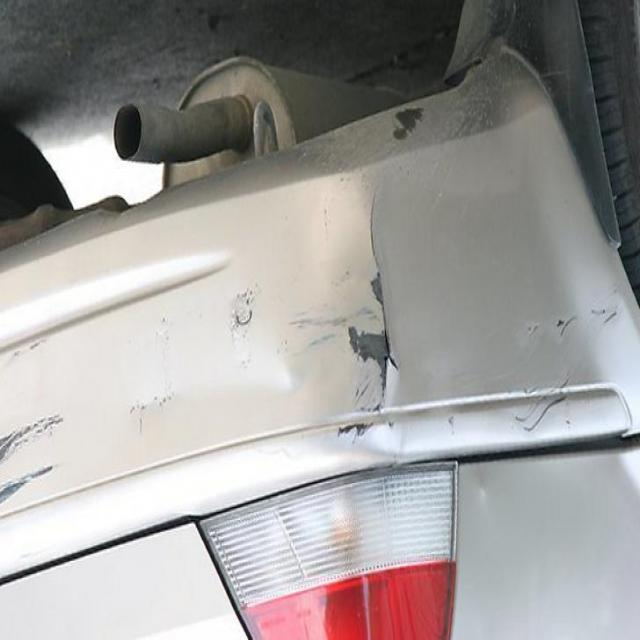scratch: (328, 169, 394, 445), (0, 388, 73, 538), (384, 91, 426, 152)
